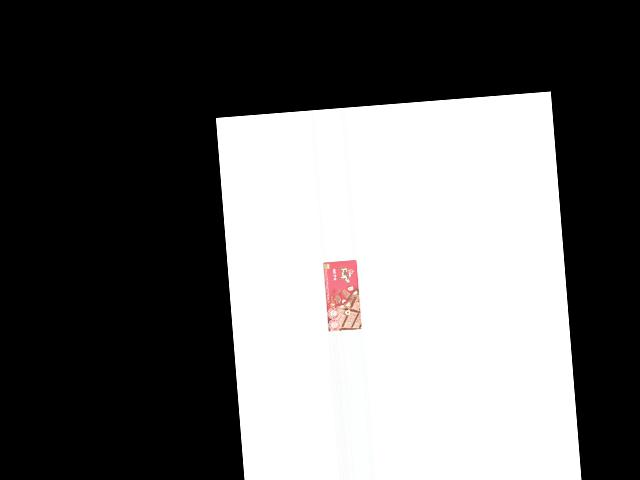chocolate: (322, 259, 362, 331)
